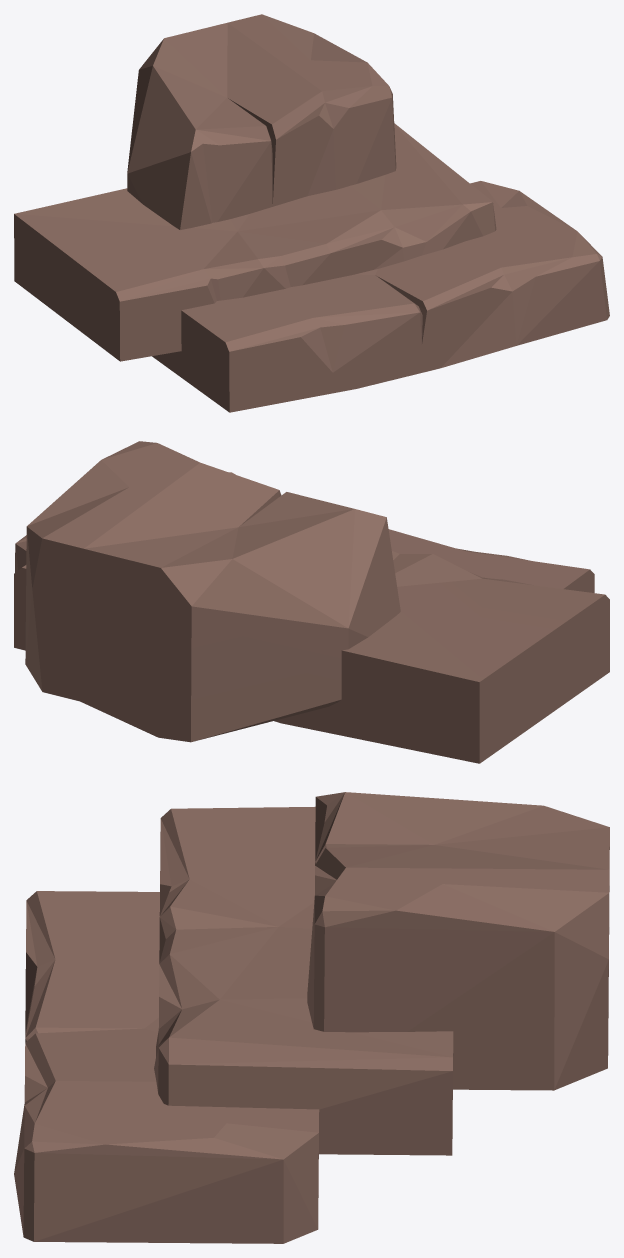
File: rock_006.fbx
3 views of the same model, one above another, from view 1: azimuth 30°, elevation 25°; view 2: azimuth 150°, elevation 25°; view 3: azimuth 270°, elevation 25° (orthographic). The views are drawn at different scales.
Visible parts, largest first — view 1: rock.006; view 2: rock.006; view 3: rock.006.
Boxes of the visible parts, x1,y1,x2,y2 form: rock.006: [14, 14, 609, 412]; rock.006: [14, 441, 609, 763]; rock.006: [14, 792, 609, 1243].
Bounding box in the file's own units: 3438 × 1435 × 2879.
Materials: 1 (1 with a texture image).
